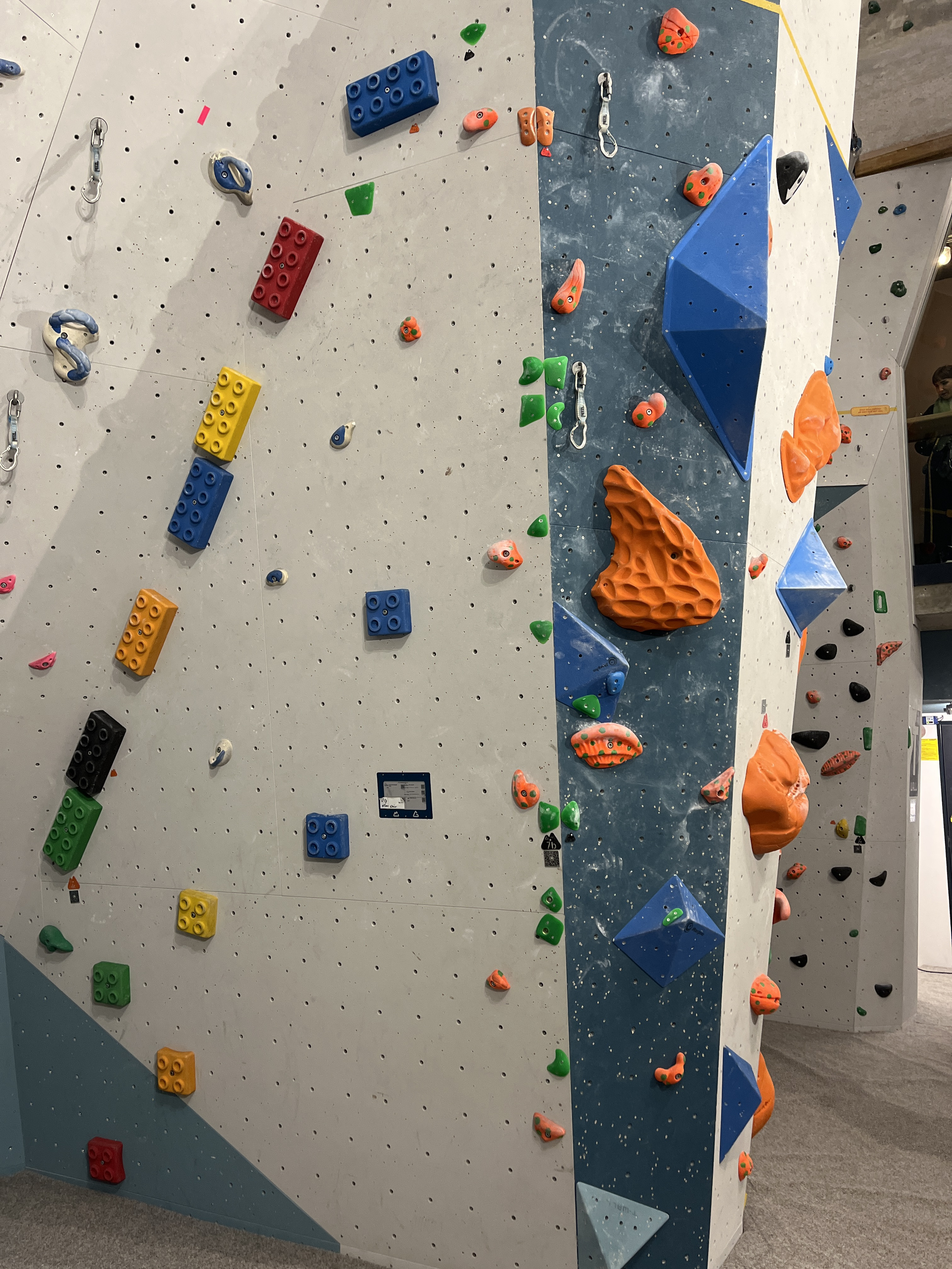hold: (593, 465, 723, 632), (742, 730, 810, 855), (346, 52, 438, 135), (781, 372, 840, 500), (249, 217, 321, 319), (194, 368, 259, 464), (168, 457, 231, 550), (116, 589, 177, 676), (67, 710, 123, 794), (42, 308, 98, 384), (571, 723, 642, 766), (210, 151, 252, 205), (365, 589, 410, 637), (304, 815, 348, 859), (175, 890, 214, 938), (752, 1052, 774, 1136), (660, 10, 701, 54), (156, 1048, 195, 1094), (776, 151, 809, 205), (685, 164, 726, 206), (552, 261, 584, 313), (87, 1138, 123, 1184), (92, 964, 129, 1005), (750, 974, 780, 1015), (703, 767, 737, 802), (632, 394, 665, 428), (821, 750, 860, 776), (534, 1112, 567, 1141), (655, 1052, 684, 1085), (488, 540, 522, 567), (37, 925, 69, 953), (513, 771, 538, 806), (463, 109, 499, 133), (521, 393, 546, 427), (346, 183, 373, 214), (517, 106, 537, 145), (792, 730, 830, 750), (537, 914, 563, 943), (536, 106, 554, 145), (521, 358, 546, 384), (547, 1049, 570, 1076), (549, 357, 568, 389), (572, 697, 601, 717), (773, 889, 790, 923), (877, 641, 901, 665), (537, 804, 558, 831), (561, 801, 580, 830), (748, 553, 768, 579), (462, 22, 485, 44), (400, 318, 420, 341), (0, 58, 23, 77), (531, 621, 552, 641), (26, 653, 54, 668), (842, 618, 864, 637), (543, 889, 561, 912), (488, 970, 508, 990), (663, 907, 683, 927), (530, 516, 548, 538), (549, 403, 564, 429), (739, 1151, 752, 1180), (873, 589, 888, 614), (608, 672, 625, 694), (815, 643, 837, 660), (850, 683, 869, 702), (330, 426, 348, 446), (831, 866, 852, 882), (786, 862, 805, 879), (265, 568, 284, 584), (890, 280, 906, 297), (870, 870, 887, 886), (874, 983, 892, 998), (789, 953, 807, 968), (836, 818, 849, 838), (854, 815, 866, 836), (0, 575, 12, 594), (836, 535, 852, 549), (841, 424, 852, 444), (768, 214, 773, 257), (863, 727, 872, 750), (824, 356, 834, 376), (807, 690, 821, 704), (879, 367, 891, 381), (893, 204, 906, 215), (869, 244, 881, 253), (849, 929, 859, 938), (878, 205, 887, 214), (857, 1007, 866, 1016), (907, 729, 911, 748)
volume: (664, 131, 770, 487), (610, 871, 727, 988), (554, 600, 631, 727), (774, 518, 849, 639), (575, 1182, 671, 1269), (825, 123, 863, 257), (720, 1046, 762, 1162)
